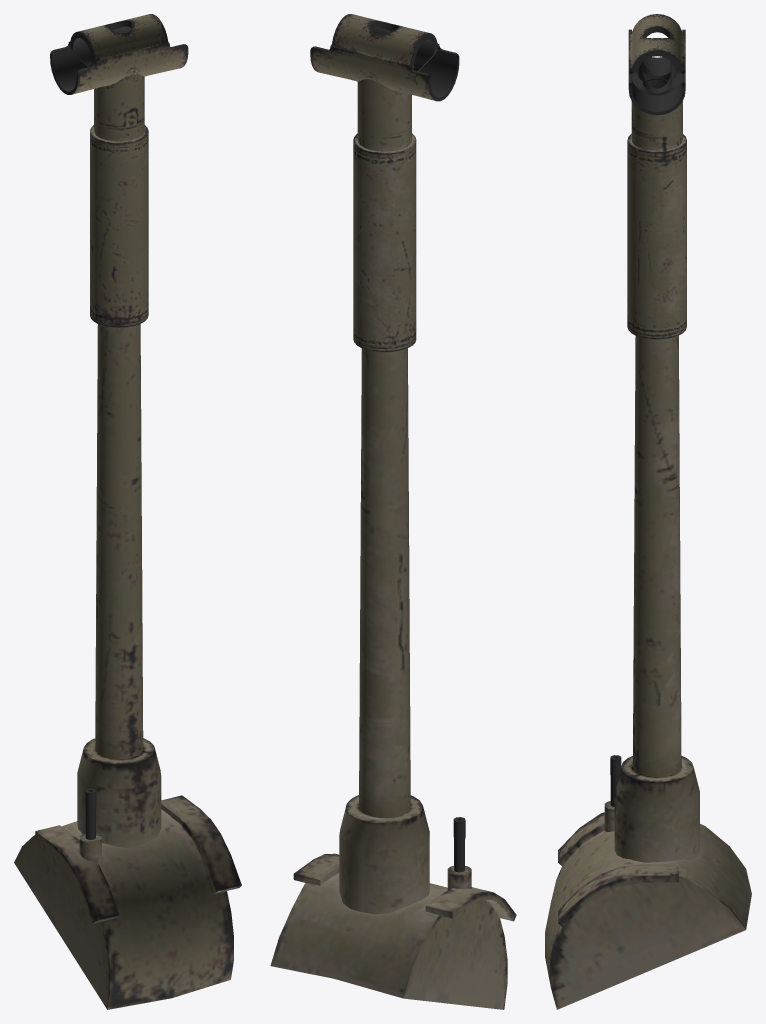
Rendered from Gun_04.glb.
The picture shows the model from 3 angles, left to right: view 1: azimuth 30°, elevation 25°; view 2: azimuth 150°, elevation 25°; view 3: azimuth 270°, elevation 25°; orthographic projection. The views are drawn at different scales.
Visible parts, largest first — view 1: set_0_group_0; view 2: set_0_group_0; view 3: set_0_group_0.
Part boxes in pixels (x1,y1,x2,y2): set_0_group_0: [14, 14, 241, 1009]; set_0_group_0: [270, 14, 516, 1009]; set_0_group_0: [545, 14, 751, 1009].
Bounding box in the file's own units: 0.5991 × 3.65 × 0.7209.
Materials: 1 (1 with a texture image).
